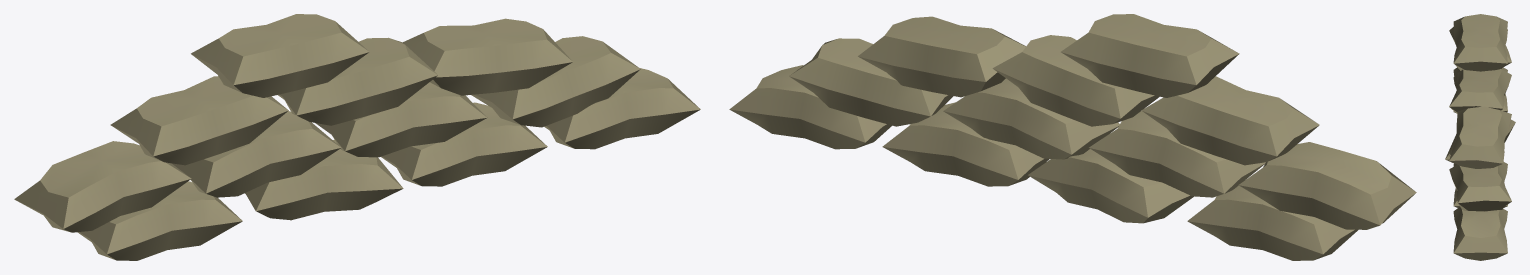
File: Sandbag_Wall2.fbx
3 renders of one model, left to right at view 1: azimuth 30°, elevation 25°; view 2: azimuth 150°, elevation 25°; view 3: azimuth 270°, elevation 25°, orthographic. The views are drawn at different scales.
Parts seen in each view (by area): view 1: Box012, Box009, Box010, Box013, Box011, Box008, Box006, Box005, Box003, Box002, Box004, Box007; view 2: Box009, Box012, Box010, Box013, Box011, Box008, Box006, Box003, Box007, Box005, Box002, Box004; view 3: Box013, Box012, Box004, Box008, Box011, Box003, Box002, Box009, Box006, Box010, Box005, Box007.
Part boxes in pixels (box(x1,y1,x2,y2)): Box012: box(191, 14, 369, 97); Box009: box(14, 141, 191, 232); Box010: box(110, 76, 288, 165); Box013: box(402, 18, 572, 95); Box011: box(278, 37, 437, 125); Box008: box(471, 36, 640, 127); Box006: box(172, 111, 341, 197); Box005: box(78, 181, 242, 260); Box003: box(381, 102, 547, 186); Box002: box(245, 139, 403, 220); Box004: box(544, 68, 700, 149); Box007: box(315, 82, 487, 157); Box009: box(1238, 142, 1416, 229); Box012: box(1061, 14, 1239, 97); Box010: box(1141, 76, 1319, 165); Box013: box(858, 16, 1025, 97); Box011: box(992, 35, 1159, 126); Box008: box(789, 38, 953, 126); Box006: box(1089, 111, 1265, 197); Box003: box(882, 102, 1049, 186); Box007: box(943, 78, 1119, 159); Box005: box(1187, 185, 1358, 260); Box002: box(1028, 149, 1193, 223); Box004: box(729, 65, 891, 149); Box013: box(1449, 106, 1511, 168); Box012: box(1453, 14, 1507, 71); Box004: box(1453, 207, 1507, 260); Box008: box(1449, 164, 1511, 211); Box011: box(1449, 69, 1511, 113); Box003: box(1453, 162, 1507, 207); Box002: box(1445, 120, 1515, 163); Box009: box(1449, 26, 1511, 67); Box006: box(1453, 71, 1507, 111); Box010: box(1453, 29, 1507, 70); Box005: box(1453, 67, 1507, 112); Box007: box(1449, 119, 1511, 156).
Size of the model in its own units: 220 by 57.93 by 33.03.
